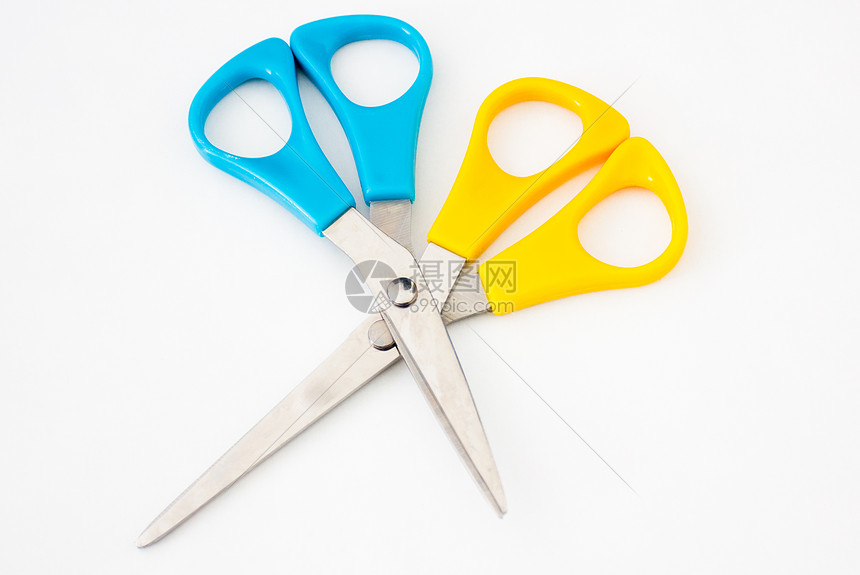scissors: (130, 13, 699, 554)
